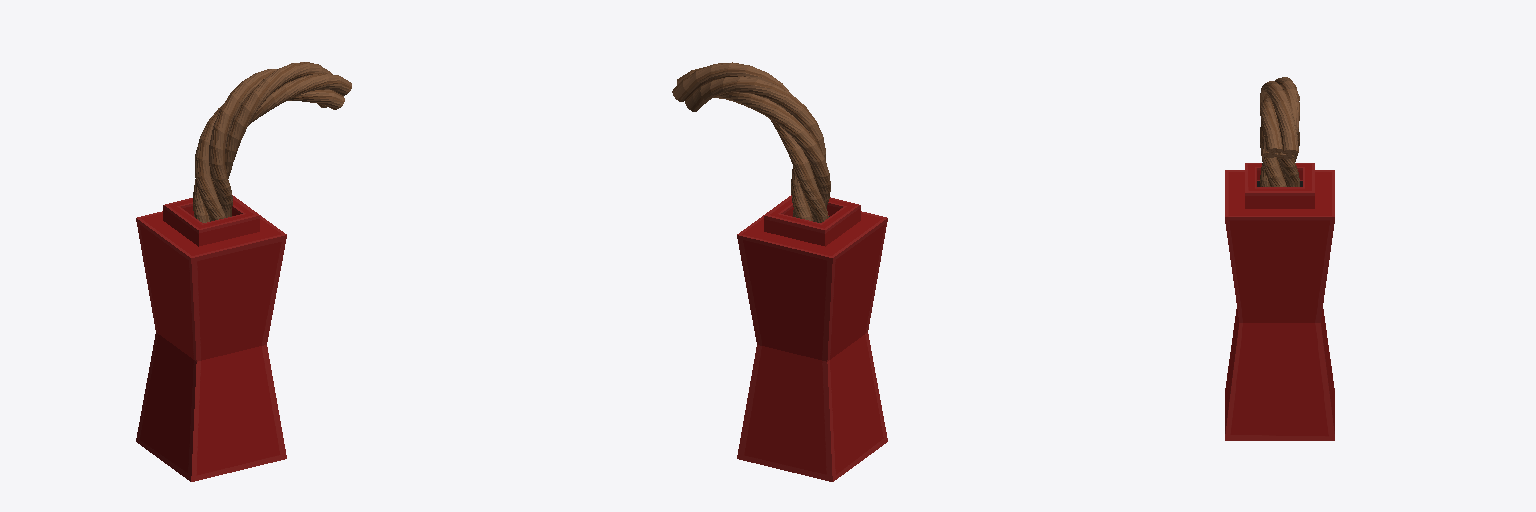
3 renders of one model, left to right at view 1: azimuth 30°, elevation 25°; view 2: azimuth 150°, elevation 25°; view 3: azimuth 270°, elevation 25°, orthographic.
Parts seen in each view (by area): view 1: Dynamite; view 2: Dynamite; view 3: Dynamite.
Boxes of the visible parts, box(x1,y1,x2,y2) form: Dynamite: box(136, 62, 351, 481); Dynamite: box(672, 62, 887, 481); Dynamite: box(1225, 77, 1334, 440).
Size of the model in its own units: 55.19 by 105 by 28.64.
Materials: 2 (2 with a texture image).